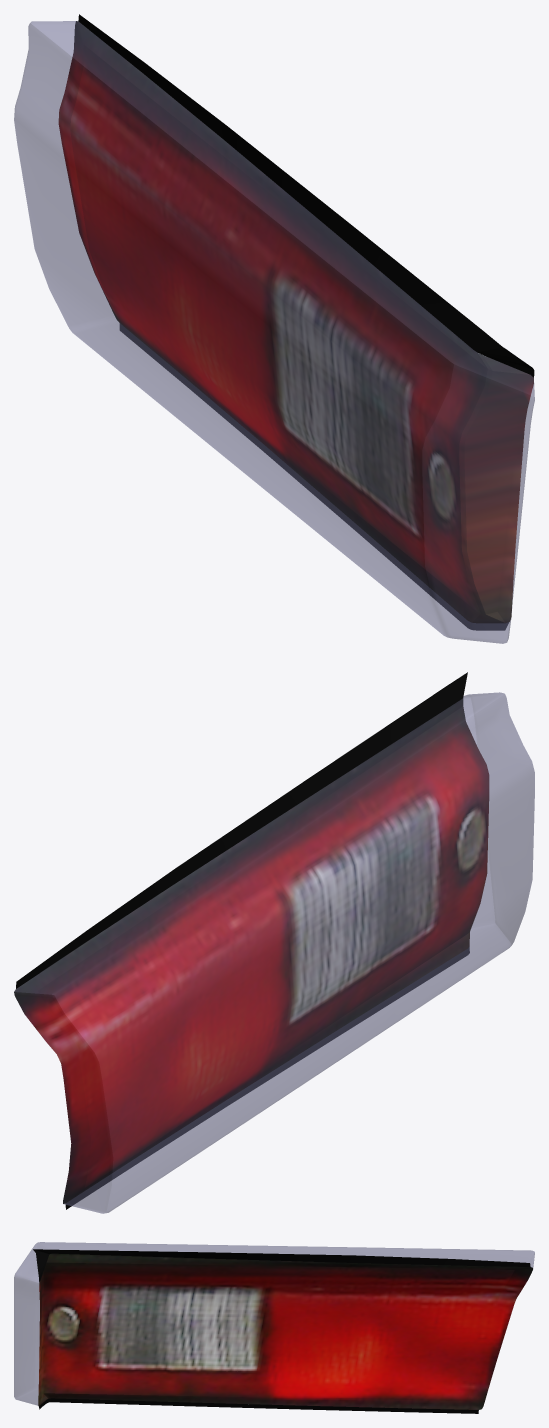
3 renders of one model, top to bottom at view 1: azimuth 30°, elevation 25°; view 2: azimuth 150°, elevation 25°; view 3: azimuth 270°, elevation 25°, orthographic. The views are drawn at different scales.
Visible parts, largest first — view 1: Y173_541D_L_Y173_541D_L_2_DTaSI, Y173_541D_L_Y173_541D_L_1_N, Y173_541D_L_3_D_Y173_541D_L; view 2: Y173_541D_L_Y173_541D_L_2_DTaSI, Y173_541D_L_Y173_541D_L_1_N, Y173_541D_L_3_D_Y173_541D_L; view 3: Y173_541D_L_Y173_541D_L_1_N, Y173_541D_L_Y173_541D_L_2_DTaSI, Y173_541D_L_3_D_Y173_541D_L.
Boxes of the visible parts, x1,y1,x2,y2 form: Y173_541D_L_Y173_541D_L_2_DTaSI: (14,21,534,643); Y173_541D_L_Y173_541D_L_1_N: (58,21,533,623); Y173_541D_L_3_D_Y173_541D_L: (78,14,534,630); Y173_541D_L_Y173_541D_L_2_DTaSI: (14,692,534,1213); Y173_541D_L_Y173_541D_L_1_N: (14,698,489,1203); Y173_541D_L_3_D_Y173_541D_L: (16,672,469,1209); Y173_541D_L_Y173_541D_L_1_N: (38,1253,532,1409); Y173_541D_L_Y173_541D_L_2_DTaSI: (14,1242,534,1405); Y173_541D_L_3_D_Y173_541D_L: (33,1249,530,1413).
Size of the model in its own units: 4.98 by 12 by 35.84.
